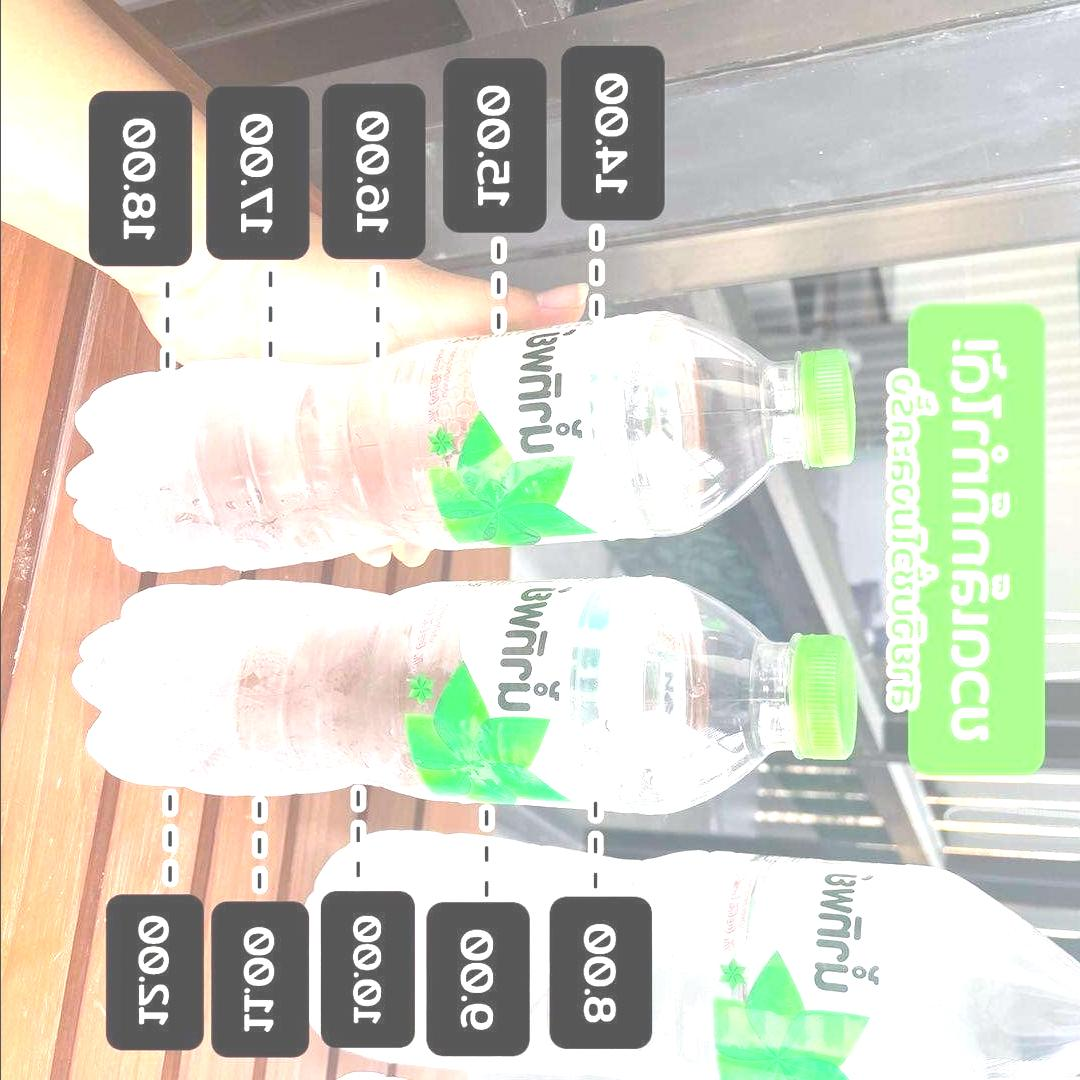bottle: (53, 298, 872, 581), (61, 570, 872, 824)
